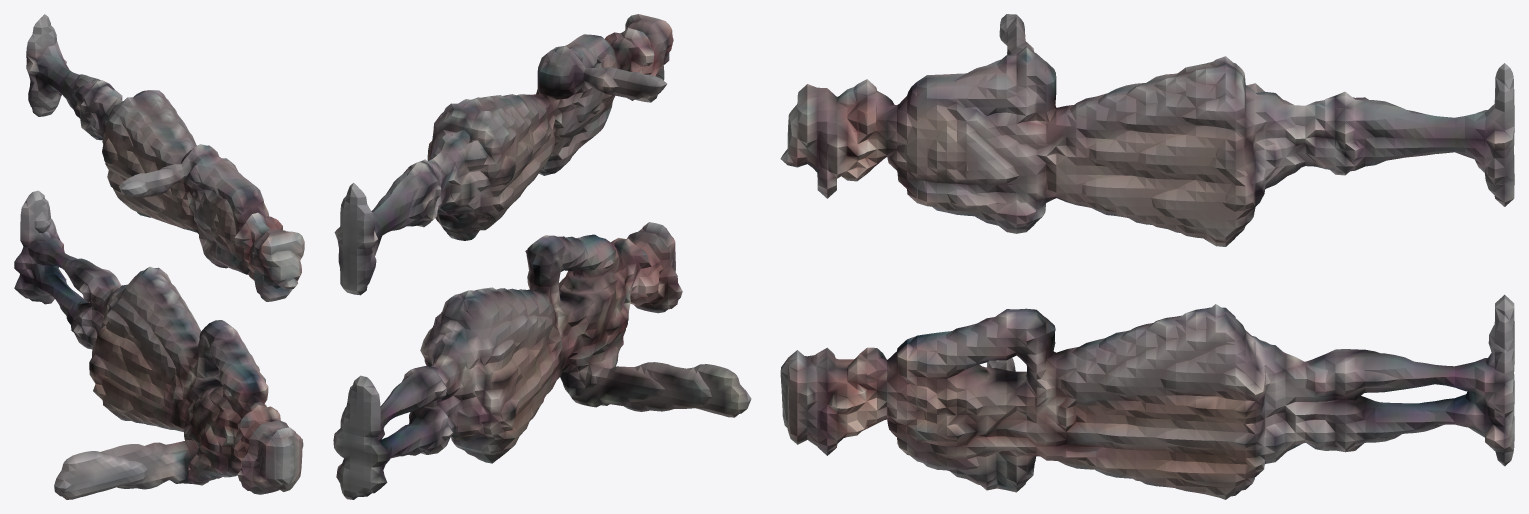
The model's file is industrial_scholar_f_0.glb.
3 views of the same model, side by side, from view 1: azimuth 30°, elevation 25°; view 2: azimuth 150°, elevation 25°; view 3: azimuth 270°, elevation 25° (orthographic). The views are drawn at different scales.
Visible parts, largest first — view 1: world; view 2: world; view 3: world.
Part boxes in pixels (x1,y1,x2,y2): world: (14, 14, 304, 499); world: (333, 14, 751, 499); world: (780, 14, 1514, 499).
Size of the model in its own units: 0.4501 by 0.6831 by 1.01.
